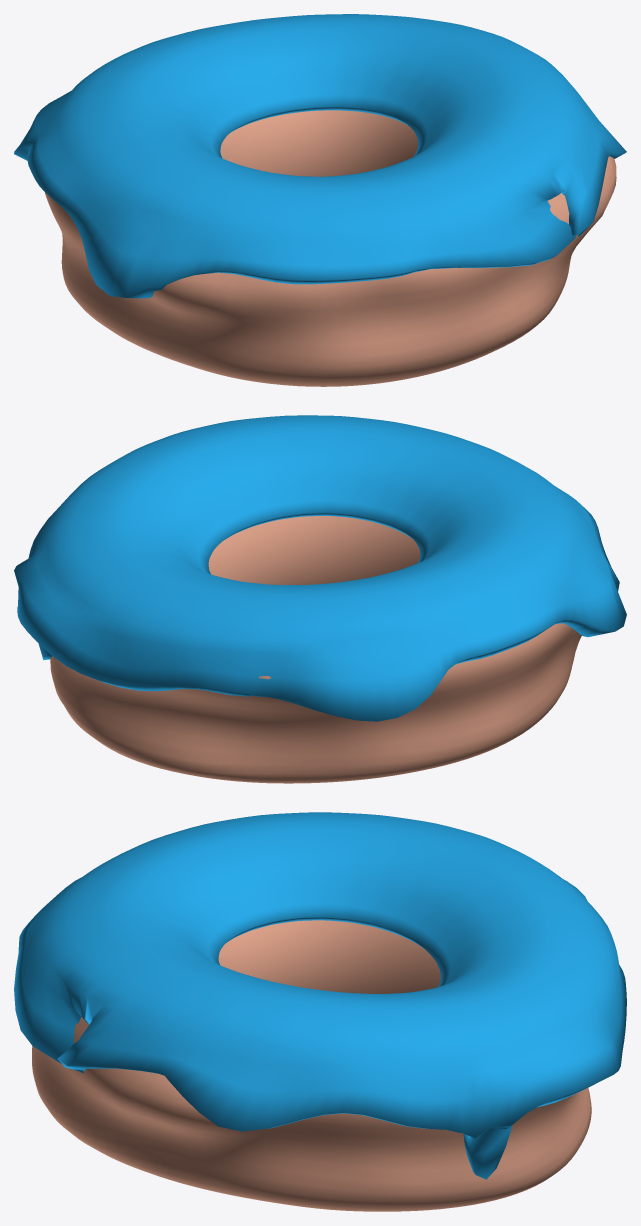
The model's file is donut.glb.
3 views of the same model, one above another, from view 1: azimuth 30°, elevation 25°; view 2: azimuth 150°, elevation 25°; view 3: azimuth 270°, elevation 25° (orthographic). The views are drawn at different scales.
Parts seen in each view (by area): view 1: icing, doughnut; view 2: icing, doughnut; view 3: icing, doughnut.
Part boxes in pixels (box(x1,y1,x2,y2)): icing: box(14, 14, 626, 298); doughnut: box(45, 110, 616, 386); icing: box(14, 415, 626, 721); doughnut: box(50, 516, 581, 783); icing: box(14, 812, 626, 1179); doughnut: box(32, 920, 591, 1211).
Size of what is drawn, in the model's own units: 0.1533 by 0.0573 by 0.1464.
